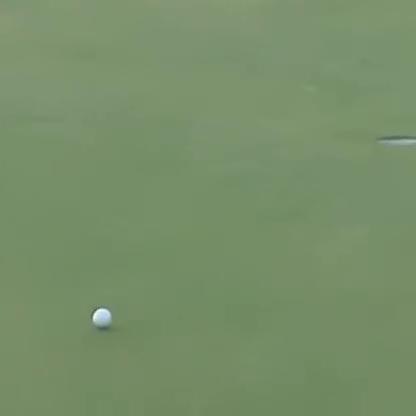golfball: (91, 303, 109, 325)
